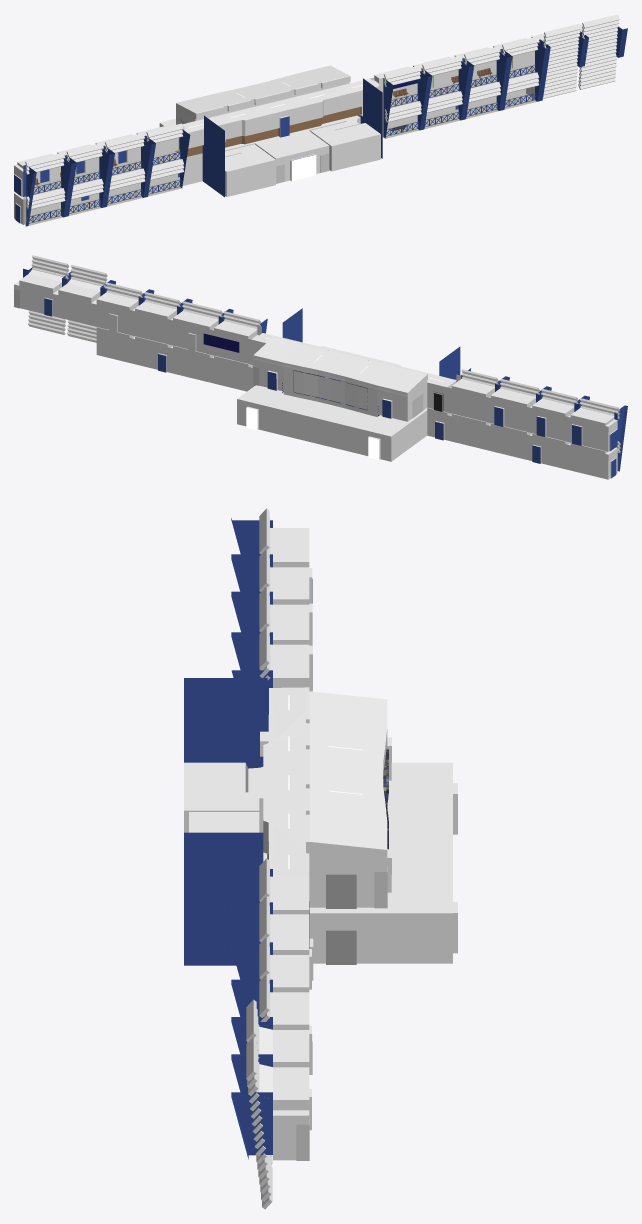
File: model_bloco_b.glb
3 renders of one model, top to bottom at view 1: azimuth 30°, elevation 25°; view 2: azimuth 150°, elevation 25°; view 3: azimuth 270°, elevation 25°, orthographic. The views are drawn at different scales.
Parts seen in each view (by area): view 1: BlocoBInt, DetalhesRepeteTodo, Bloco B.002, Detalhes3Repete.002, Detalhes3Repete.013, Detalhes3Repete.007, Detalhes3Repete.005, Detalhes3Repete.015, Detalhes3Repete.012, Detalhes3Repete, Detalhes3Repete.014, Detalhes3Repete.006 (+8 smaller); view 2: BlocoBInt, DetalhesRepeteTodo, QuadroAvisos, Detalhes3Repete.002, Detalhes3Repete.013, Detalhes3Repete.007, Detalhes3Repete.012, Detalhes3Repete.006, Detalhes3Repete.009, Detalhes3Repete.003, Detalhes3Repete.008; view 3: BlocoBInt, DetalhesRepeteTodo, Elevador, Elevador.001.
Boxes of the visible parts, bbox=[...] form: BlocoBInt: bbox=[14, 24, 627, 226]; DetalhesRepeteTodo: bbox=[542, 14, 619, 98]; Bloco B.002: bbox=[26, 65, 536, 223]; Detalhes3Repete.002: bbox=[25, 152, 64, 174]; Detalhes3Repete.013: bbox=[422, 55, 462, 75]; Detalhes3Repete.007: bbox=[105, 133, 144, 153]; Detalhes3Repete.005: bbox=[26, 188, 65, 209]; Detalhes3Repete.015: bbox=[384, 101, 421, 122]; Detalhes3Repete.012: bbox=[383, 65, 421, 87]; Detalhes3Repete: bbox=[109, 168, 145, 190]; Detalhes3Repete.014: bbox=[427, 91, 462, 112]; Detalhes3Repete.006: bbox=[146, 123, 183, 143]; BlocoBInt: bbox=[14, 267, 627, 479]; DetalhesRepeteTodo: bbox=[28, 255, 107, 342]; QuadroAvisos: bbox=[203, 333, 239, 352]; Detalhes3Repete.002: bbox=[579, 398, 619, 419]; Detalhes3Repete.013: bbox=[182, 301, 222, 319]; Detalhes3Repete.007: bbox=[500, 378, 539, 396]; Detalhes3Repete.012: bbox=[223, 311, 261, 328]; Detalhes3Repete.006: bbox=[461, 369, 498, 386]; Detalhes3Repete.009: bbox=[105, 282, 142, 299]; Detalhes3Repete.003: bbox=[541, 388, 578, 405]; Detalhes3Repete.008: bbox=[144, 292, 180, 309]; BlocoBInt: bbox=[184, 518, 457, 1160]; DetalhesRepeteTodo: bbox=[246, 999, 272, 1209]; Elevador: bbox=[326, 874, 356, 908]; Elevador.001: bbox=[326, 930, 356, 964].
Bounding box in the file's own units: 169 × 19.22 × 33.65.
Materials: 23 (1 with a texture image).
